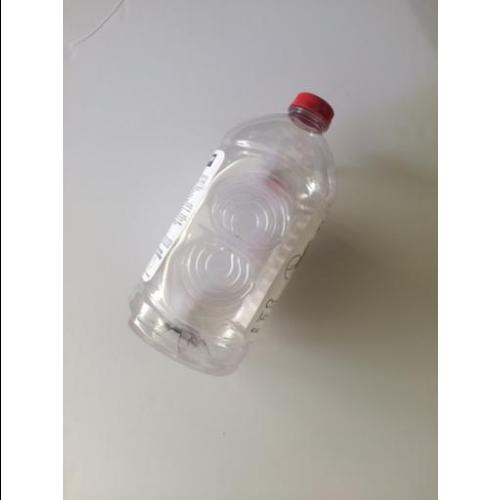plastic: (126, 90, 338, 376)
